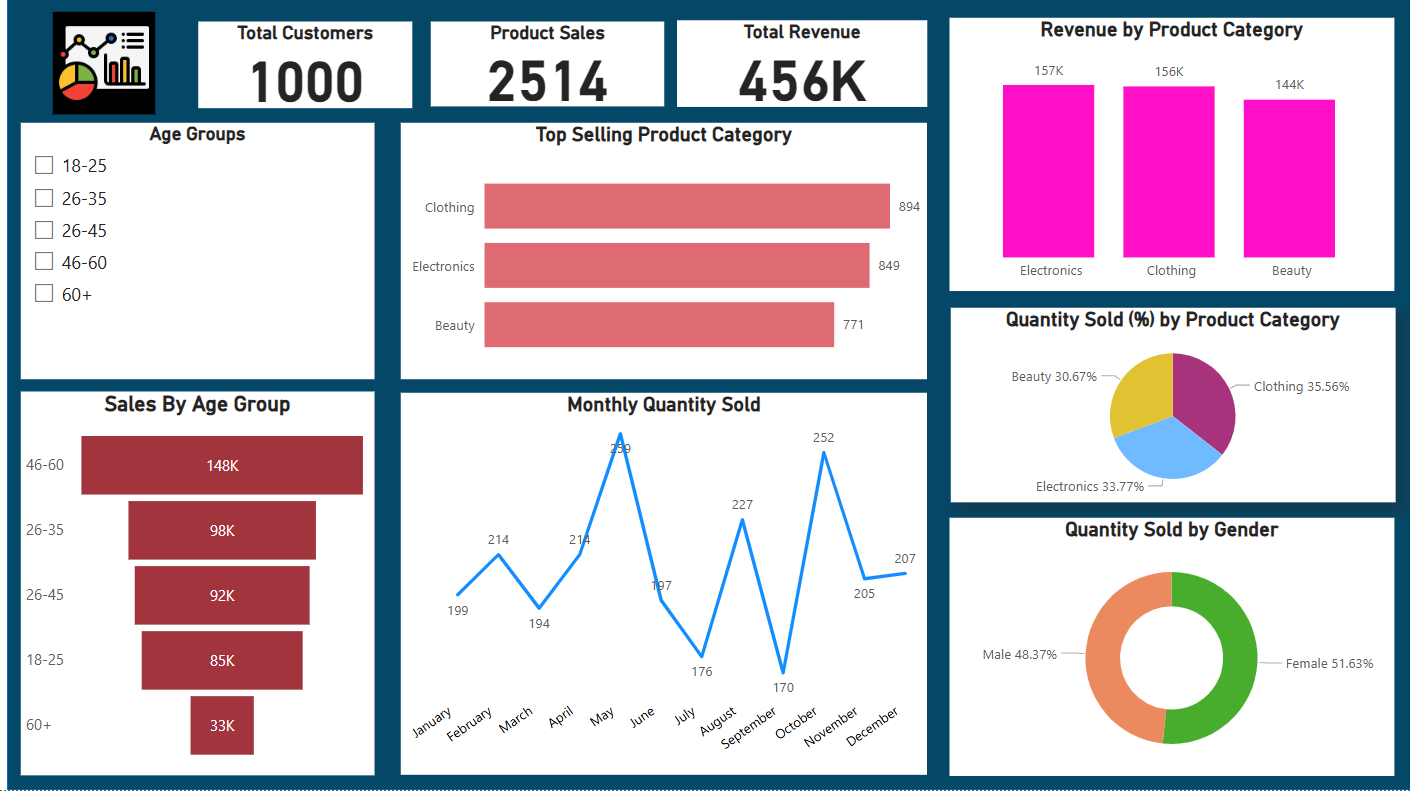

The dashboard page shown, as its layout file describes it:
{"tool":"powerbi","page":{"name":"Page 1","canvas":[1280,720],"ordinal":0},"visuals":[{"type":"shape","box":[9.6,0,1270.7,720.4],"z":0},{"type":"card","title":"Total Customers","fields":{"Values":["retail_sales_dataset.M_Total_Customers"]},"box":[182.5,24.7,193.5,78.2],"z":1000},{"type":"card","title":"Product Sales","fields":{"Values":["retail_sales_dataset.M_Total_product_Sales"]},"box":[392.5,24.7,211.3,76.8],"z":2000},{"type":"card","title":"Total Revenue","fields":{"Values":["retail_sales_dataset.M_Revenue"]},"box":[614.8,23.3,226.4,78.2],"z":3000},{"type":"pieChart","title":"Quantity Sold (%) by Product Category","fields":{"Category":["retail_sales_dataset.Product Category"],"Y":["Sum(retail_sales_dataset.Quantity)"]},"box":[863.1,284,402.1,175.6],"z":4000},{"type":"slicer","title":"Age Groups","fields":{"Values":["retail_sales_dataset.Age Group"]},"box":[22,116.6,319.7,231.9],"z":5000},{"type":"columnChart","title":"Revenue by Product Category","fields":{"Category":["retail_sales_dataset.Product Category"],"Y":["Sum(retail_sales_dataset.Total Amount)"]},"box":[861.8,22,402.1,247],"z":6000},{"type":"barChart","title":"Top Selling Product Category","fields":{"Category":["retail_sales_dataset.Product Category"],"Y":["Sum(retail_sales_dataset.Quantity)"]},"box":[365,116.6,476.2,231.9],"z":7000},{"type":"donutChart","title":"Quantity Sold by Gender","fields":{"Category":["retail_sales_dataset.Gender"],"Y":["Sum(retail_sales_dataset.Quantity)"]},"box":[861.8,473.4,402.1,233.3],"z":8000},{"type":"funnel","title":"Sales By Age Group","fields":{"Category":["retail_sales_dataset.Age Group"],"Y":["Sum(retail_sales_dataset.Total Amount)"]},"box":[22,359.5,319.7,347.2],"z":9000},{"type":"lineChart","title":" Monthly Quantity Sold","fields":{"Category":["retail_sales_dataset.Date.Variation.Date Hierarchy.Month"],"Y":["Sum(retail_sales_dataset.Quantity)"]},"box":[365,360.9,476.2,345.8],"z":10000},{"type":"image","box":[0,11,193.5,102.9],"z":10001}]}

Visuals, with their boxes in screenshot pixels (x1, y1, x2, y2), scaled from the page's 1280x720 canvas onto the 1410x791 screenshot:
shape: [11,0,1409,790]
"Total Customers" card: [201,27,414,113]
"Product Sales" card: [432,27,665,112]
"Total Revenue" card: [677,26,927,112]
"Quantity Sold (%) by Product Category" pieChart: [951,312,1394,505]
"Age Groups" slicer: [24,128,376,383]
"Revenue by Product Category" columnChart: [949,24,1392,296]
"Top Selling Product Category" barChart: [402,128,927,383]
"Quantity Sold by Gender" donutChart: [949,520,1392,776]
"Sales By Age Group" funnel: [24,395,376,776]
" Monthly Quantity Sold" lineChart: [402,396,927,776]
image: [0,12,213,125]
